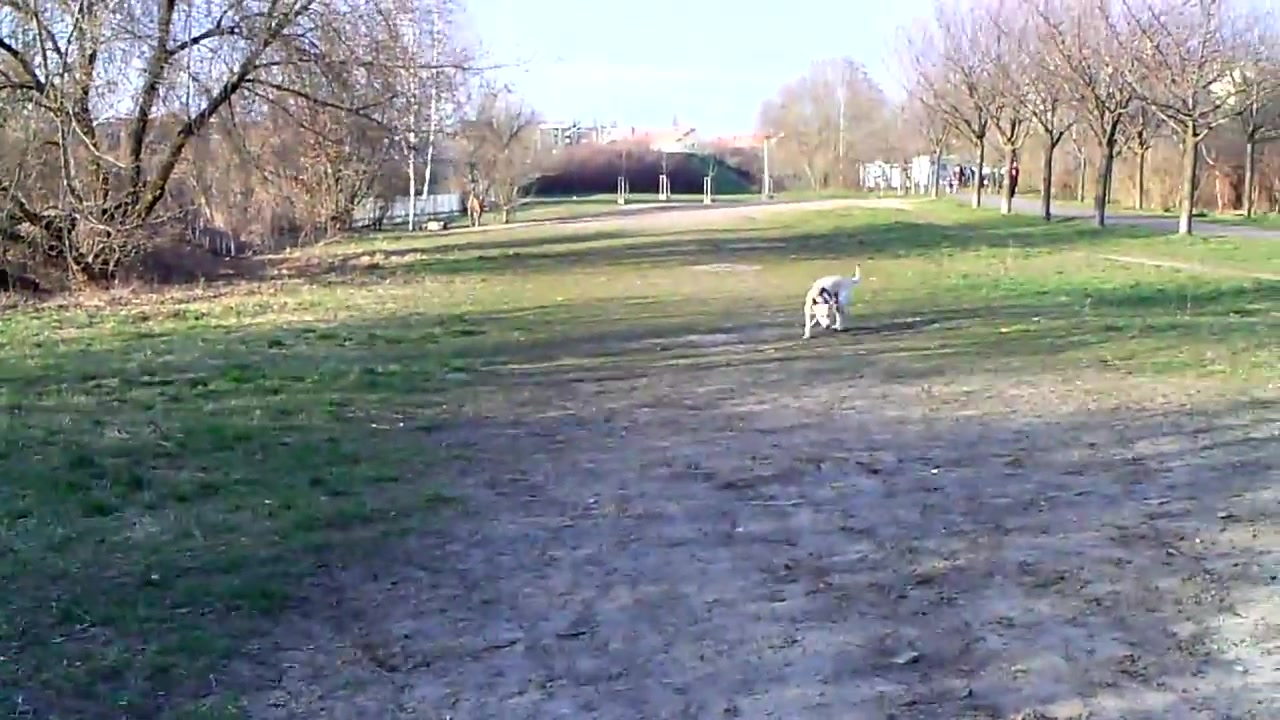dog: (803, 264, 864, 341)
